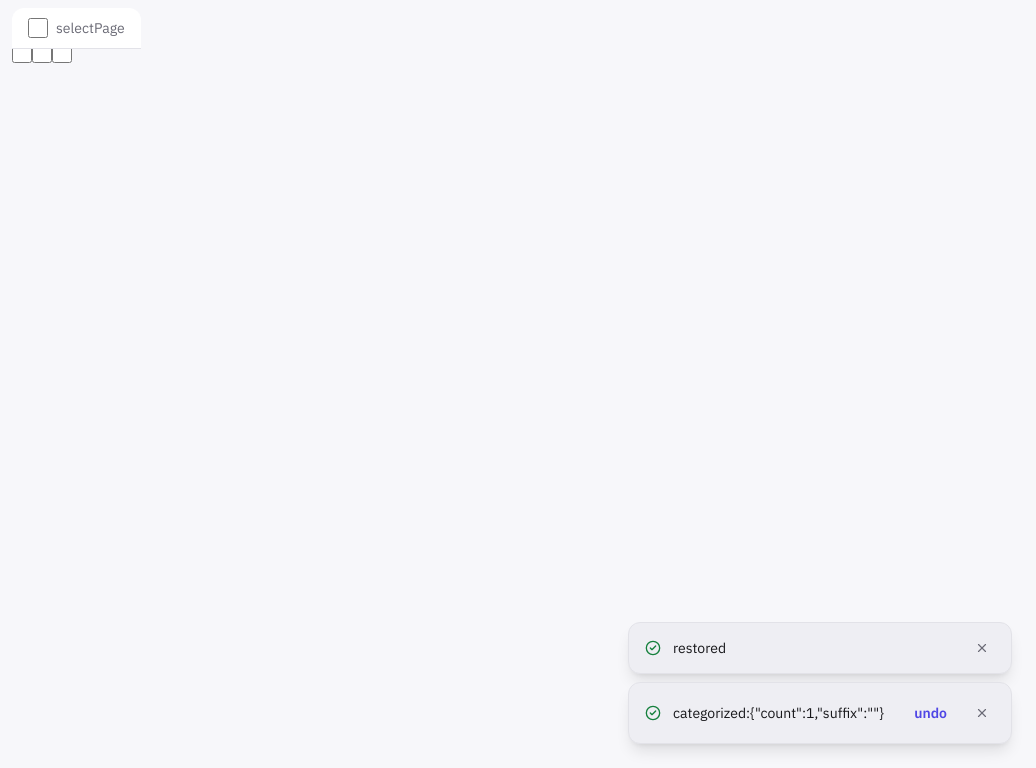
applying › keeps the selection and says so when the edit fails
The width and height of the screenshot is (1036, 768).
Click the checkbox named "selectRow:{\"label\":\"row t1\"}" at (22, 53), box left=12, top=43, right=32, bottom=63
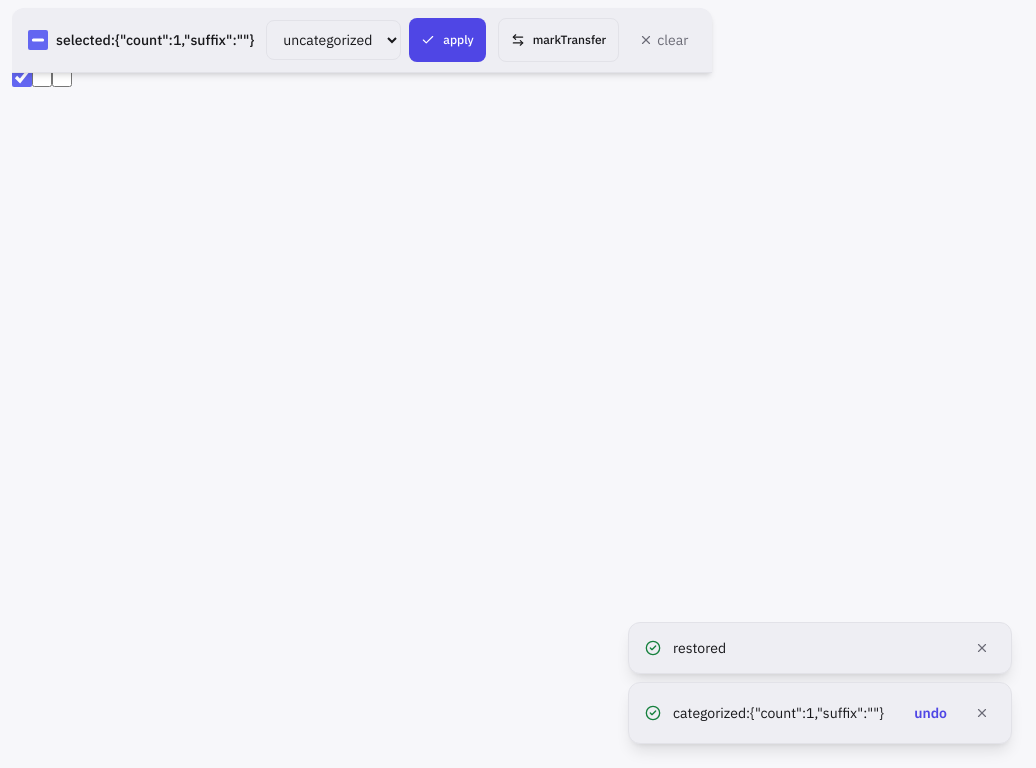
Click the button "markTransfer" at (558, 40), box left=498, top=18, right=619, bottom=62
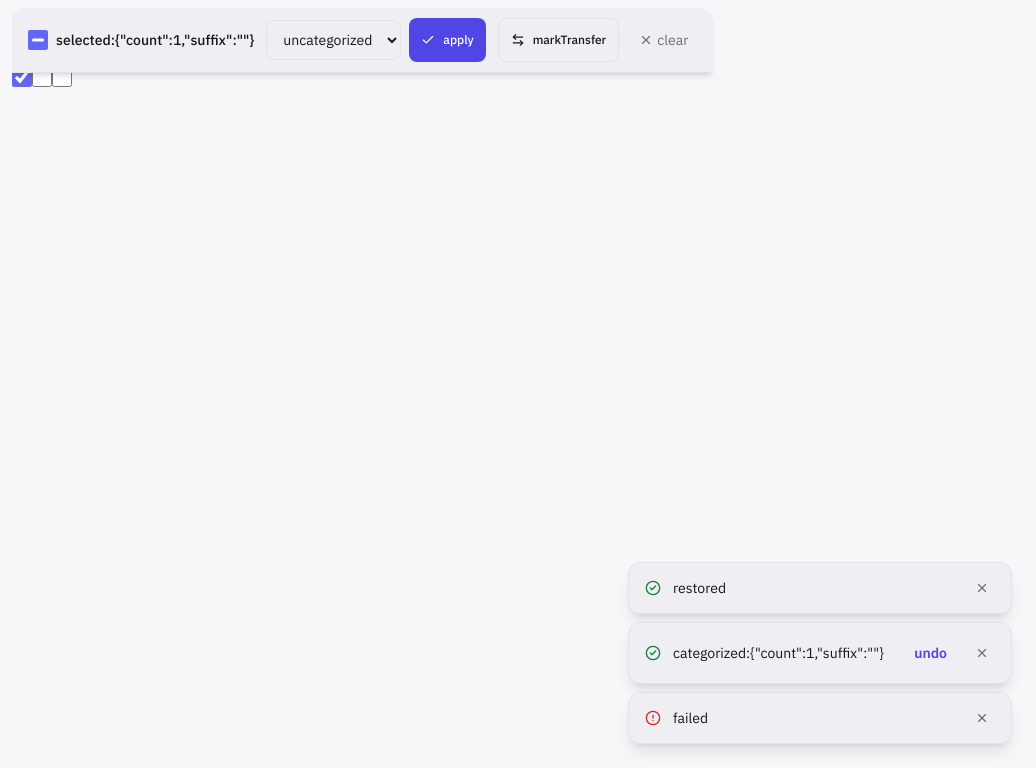
Now the message reads "failed", box left=673, top=709, right=708, bottom=727
